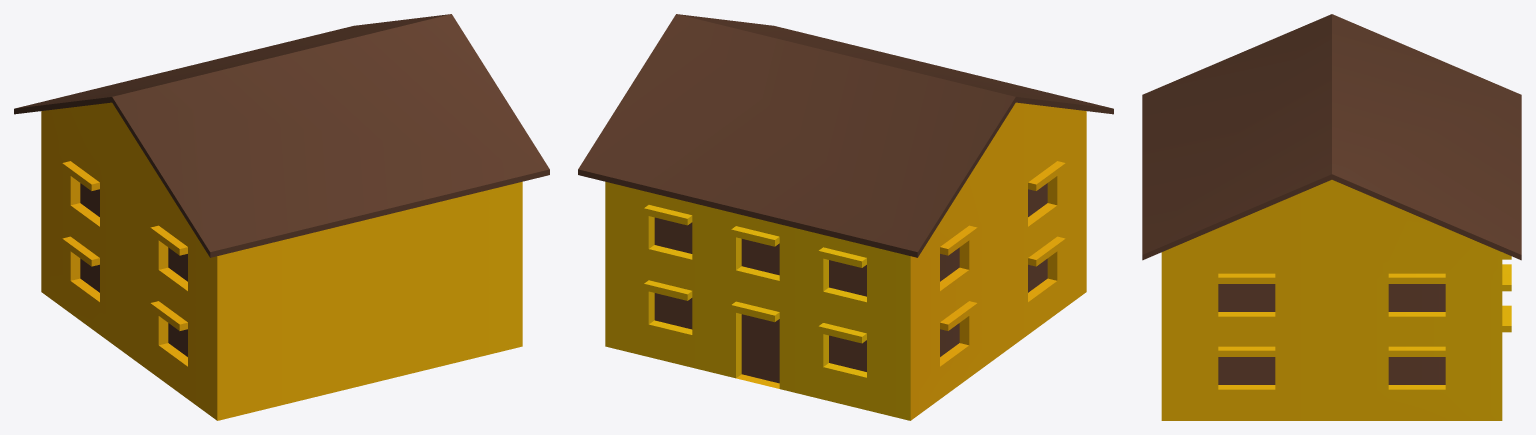
Rendered from building 2.fbx.
3 views of the same model, side by side, from view 1: azimuth 30°, elevation 25°; view 2: azimuth 150°, elevation 25°; view 3: azimuth 270°, elevation 25° (orthographic). The views are drawn at different scales.
Visible parts, largest first — view 1: Cube.012; view 2: Cube.012; view 3: Cube.012.
Part boxes in pixels (<box>): Cube.012: <box>14,14,549,420</box>; Cube.012: <box>578,14,1113,420</box>; Cube.012: <box>1142,14,1521,420</box>.
Size of the model in its own units: 33.59 by 24.93 by 33.59.
1 material, 1 textured.
